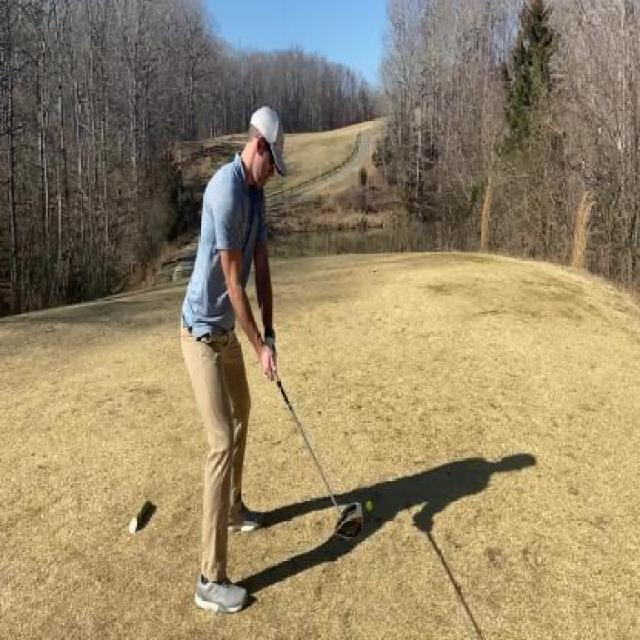club head: (334, 502, 363, 542)
